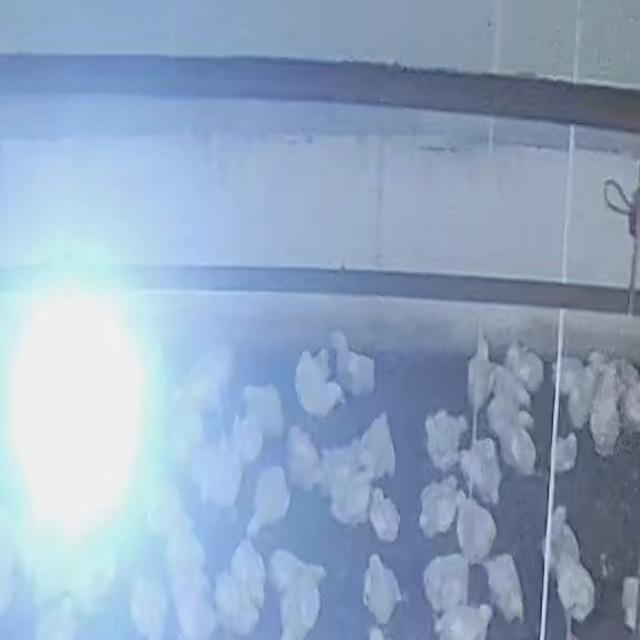chicken: (421, 551, 471, 619), (360, 553, 405, 626), (246, 464, 290, 538), (416, 472, 462, 542), (484, 549, 526, 623), (459, 437, 504, 504), (454, 494, 497, 564), (423, 408, 468, 474), (466, 332, 496, 427), (242, 382, 286, 440), (285, 427, 321, 489), (504, 341, 544, 395), (367, 485, 404, 543), (433, 603, 491, 638), (230, 411, 264, 468), (554, 355, 586, 402), (548, 432, 580, 477)
